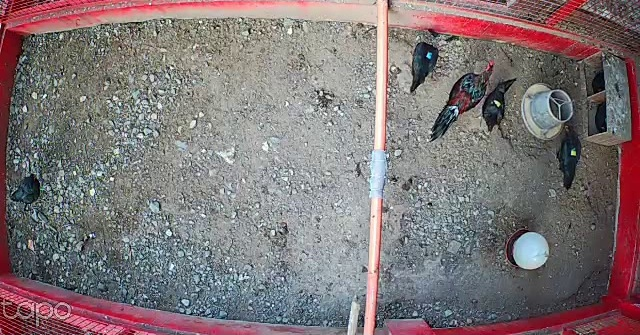Chicken: (480, 78, 519, 136), (553, 125, 585, 195), (410, 40, 442, 92), (9, 170, 50, 207)
Rooster: (429, 59, 495, 140)
Saddle_Color_Blue: (426, 51, 434, 59)
Saddle_Color_Yellow: (493, 99, 502, 108)
Saddle_Color_YellowGreen: (570, 145, 579, 157)
